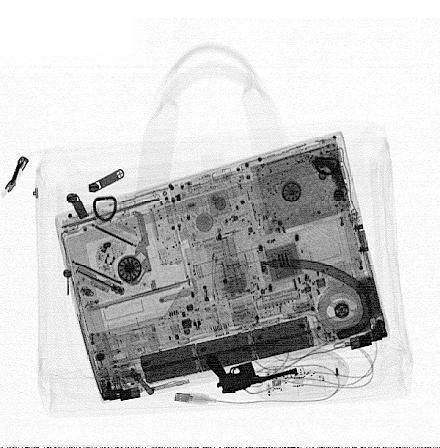Gun: (207, 353, 299, 396)
